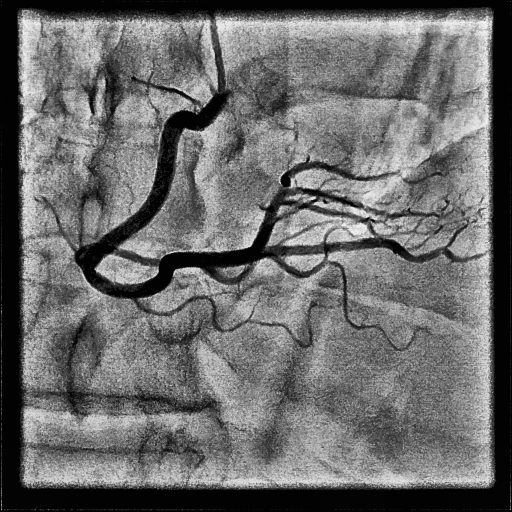pborca: (252, 162, 397, 247)
pda: (251, 237, 466, 263)
rca: (80, 94, 252, 299)
